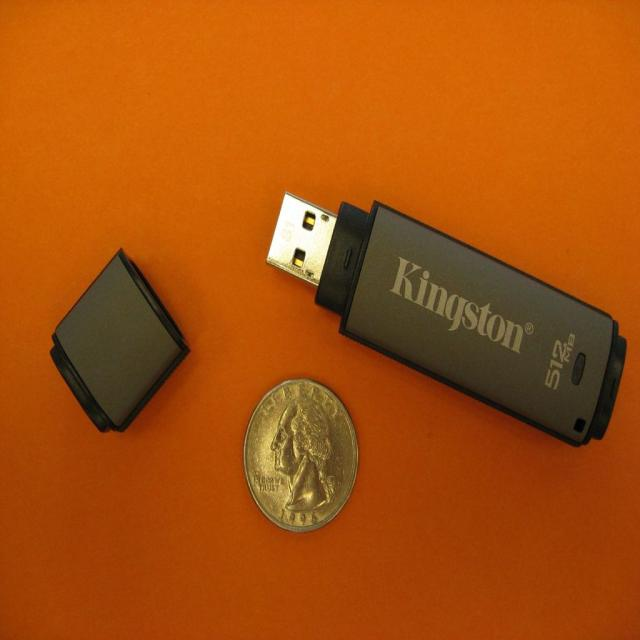Coin: (242, 378, 362, 533)
